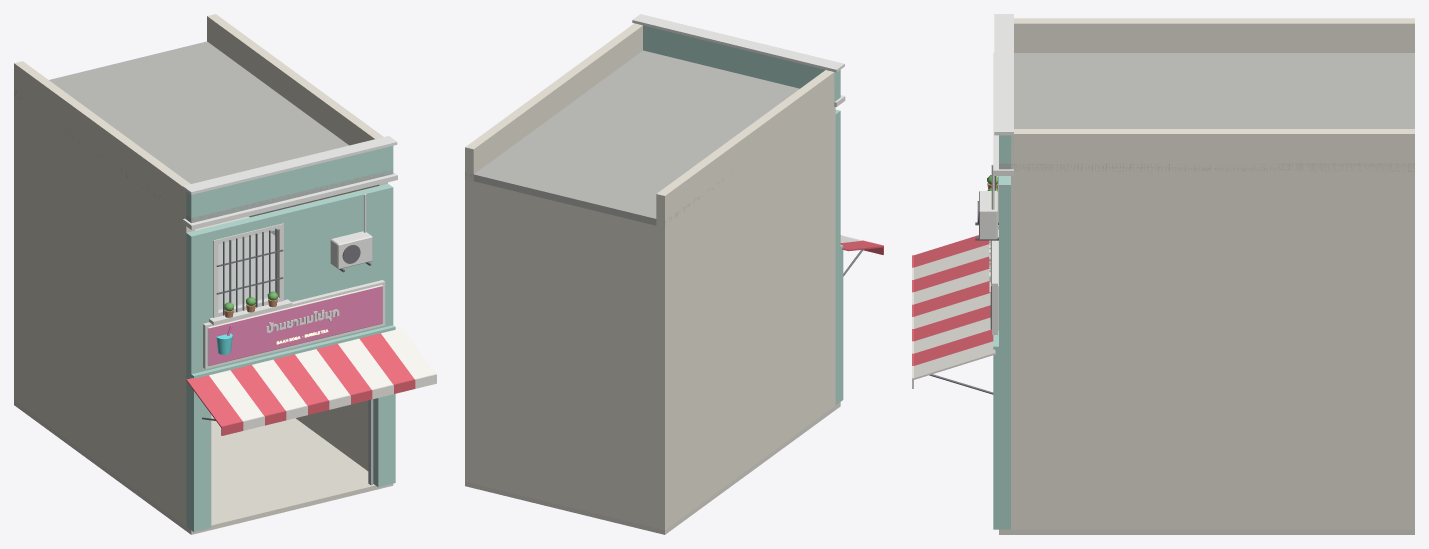
The model's file is SM_Shophouse_BobaShop.fbx.
3 views of the same model, side by side, from view 1: azimuth 30°, elevation 25°; view 2: azimuth 150°, elevation 25°; view 3: azimuth 270°, elevation 25° (orthographic). The views are drawn at different scales.
Visible parts, largest first — view 1: SM_Shophouse_BobaShop; view 2: SM_Shophouse_BobaShop; view 3: SM_Shophouse_BobaShop.
Part boxes in pixels (<box>): SM_Shophouse_BobaShop: <box>14,14,436,534</box>; SM_Shophouse_BobaShop: <box>465,14,883,534</box>; SM_Shophouse_BobaShop: <box>912,14,1414,534</box>.
Bounding box in the file's own units: 4.9 × 7.51 × 8.47.
